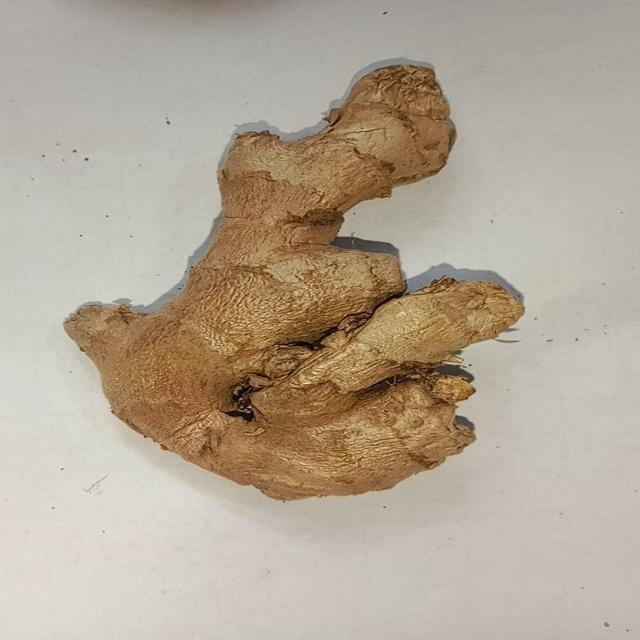ginger: (79, 58, 528, 500)
